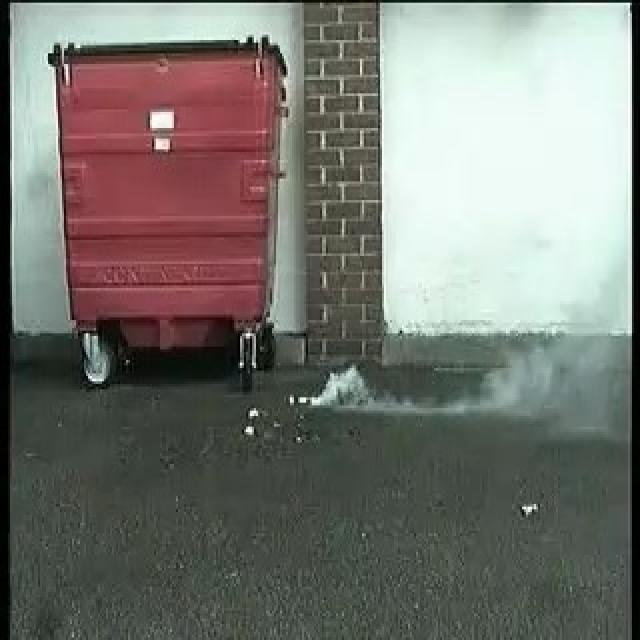smoke: (297, 361, 386, 415)
